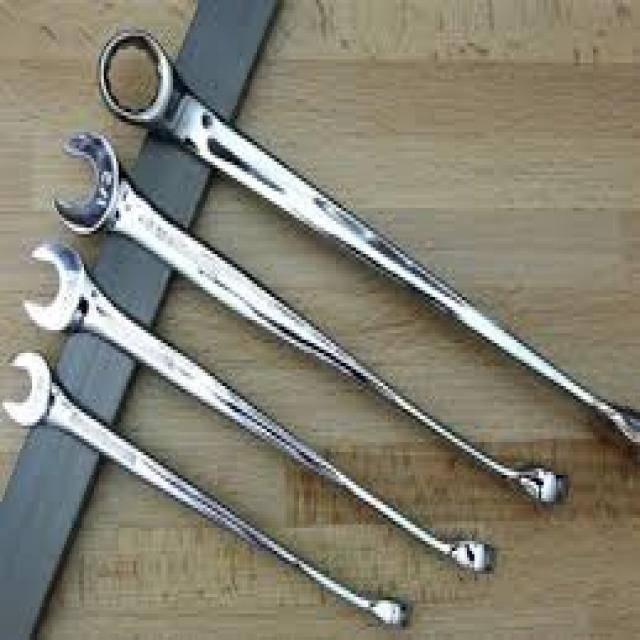wrench: (52, 122, 575, 520), (20, 236, 501, 576), (0, 346, 410, 634)
